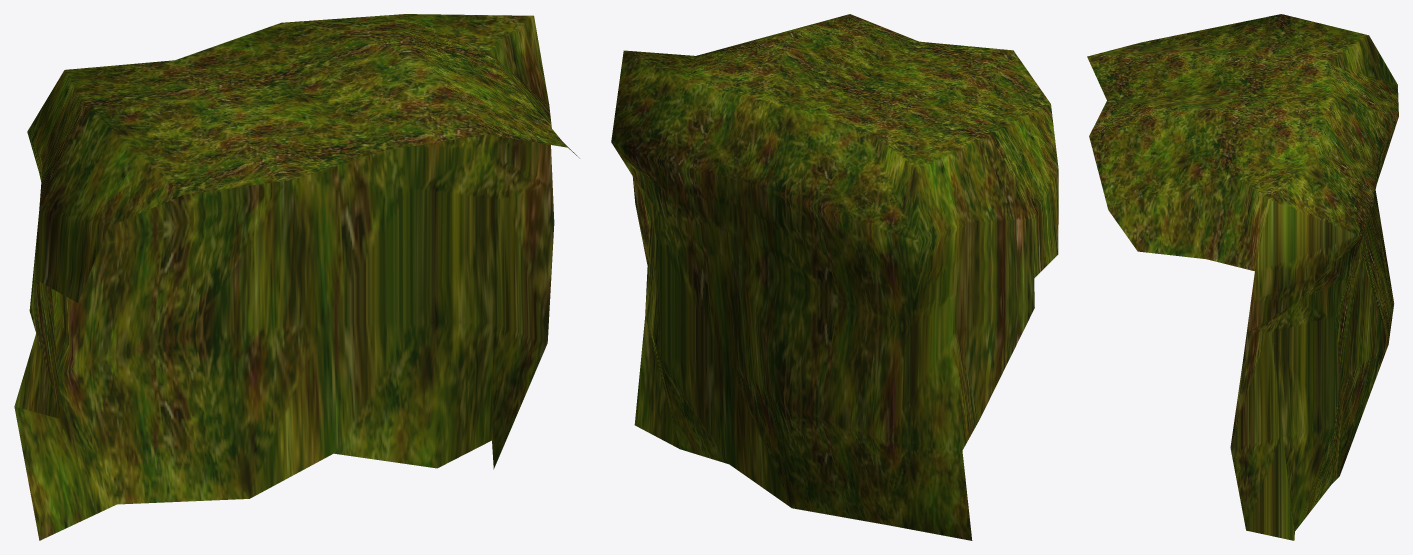
File: TROLLHOLE02_RM_PSURF98.fbx
The picture shows the model from 3 angles, left to right: view 1: azimuth 30°, elevation 25°; view 2: azimuth 150°, elevation 25°; view 3: azimuth 270°, elevation 25°; orthographic projection. The views are drawn at different scales.
Parts seen in each view (by area): view 1: TROLLHOLE02_RM_PSURF98; view 2: TROLLHOLE02_RM_PSURF98; view 3: TROLLHOLE02_RM_PSURF98.
Boxes of the visible parts, bbox=[...] form: TROLLHOLE02_RM_PSURF98: bbox=[14, 14, 579, 540]; TROLLHOLE02_RM_PSURF98: bbox=[611, 14, 1058, 540]; TROLLHOLE02_RM_PSURF98: bbox=[1087, 14, 1398, 540].
Bounding box in the file's own units: 73295 × 67914 × 48072.
1 material, 1 textured.
